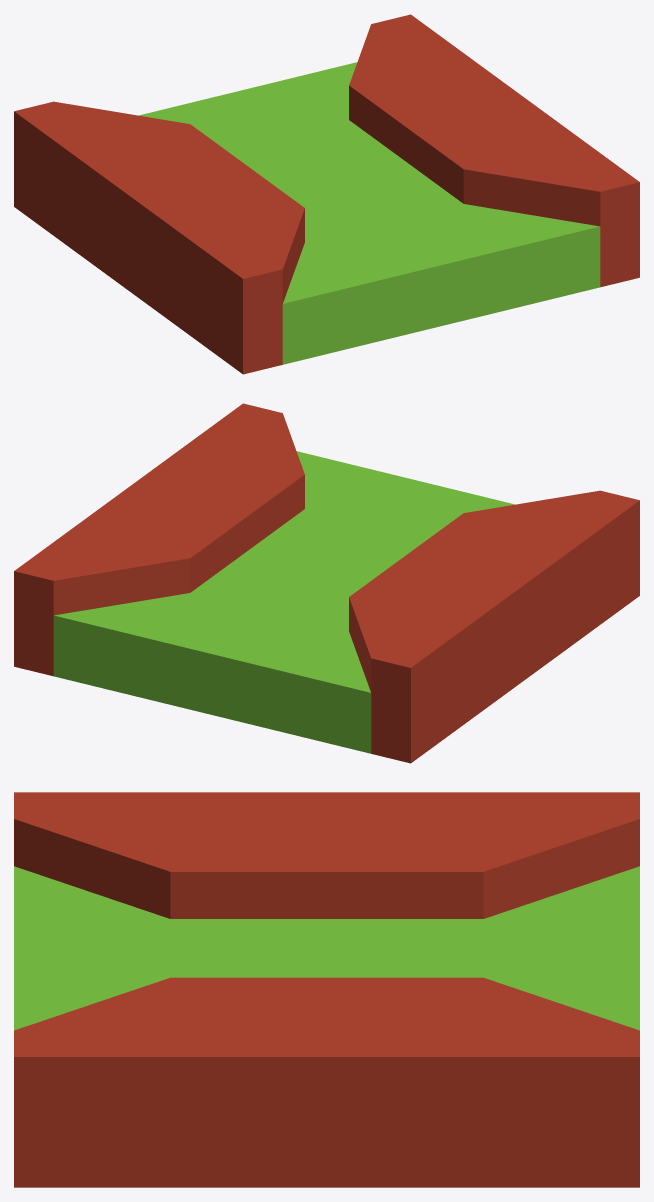
The model's file is Narrow_Square.FBX.
The picture shows the model from 3 angles, top to bottom: view 1: azimuth 30°, elevation 25°; view 2: azimuth 150°, elevation 25°; view 3: azimuth 270°, elevation 25°; orthographic projection. The views are drawn at different scales.
Parts seen in each view (by area): view 1: Walls, Narrow_square_01; view 2: Walls, Narrow_square_01; view 3: Narrow_square_01, Walls.
Part boxes in pixels (x1,y1,x2,y2): Walls: [14, 14, 639, 374]; Narrow_square_01: [139, 62, 600, 364]; Walls: [14, 403, 639, 763]; Narrow_square_01: [53, 451, 514, 753]; Narrow_square_01: [14, 866, 639, 1187]; Walls: [14, 792, 639, 1056].
Bounding box in the file's own units: 0.9999 × 0.9999 × 0.23.
